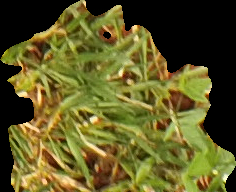grass: (1, 1, 235, 191)
